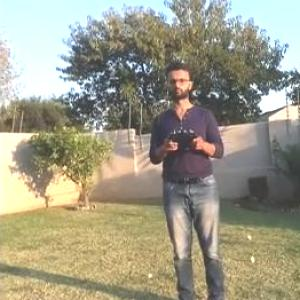follow: (137, 55, 228, 299)
